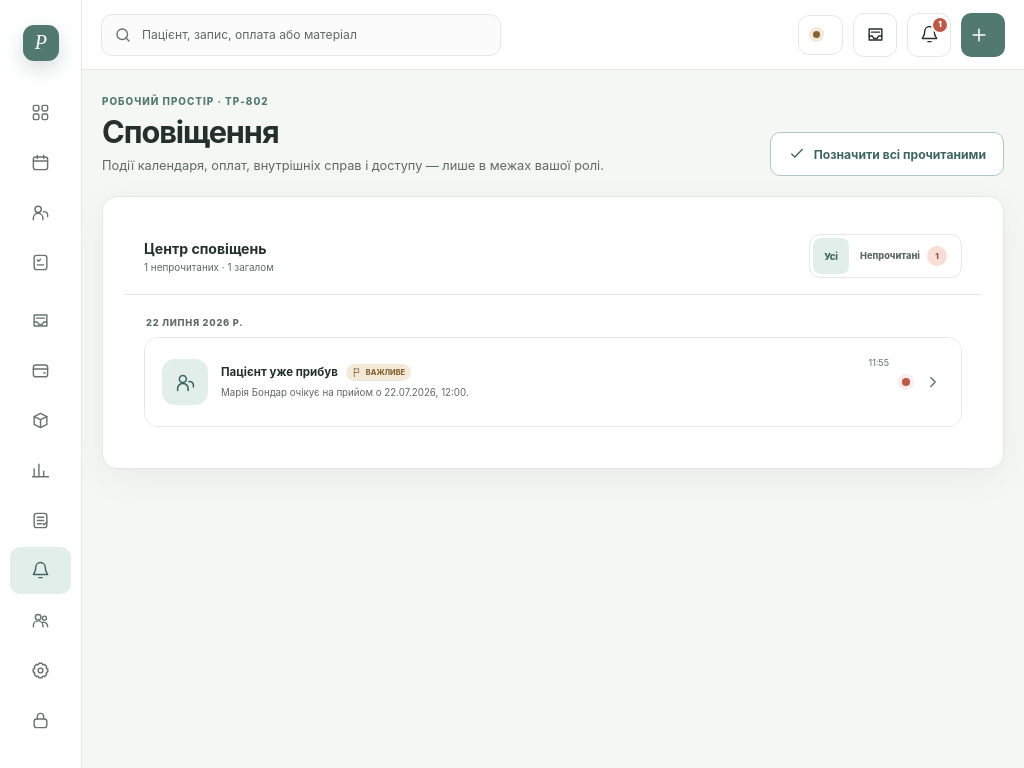
Test: notifications center › marks an item before navigating to its canonical highlighted work item
Step 1. Click the button with aria-label "Непрочитане сповіщення: Пацієнт уже прибув" → (185,382), box [145,338,961,426]
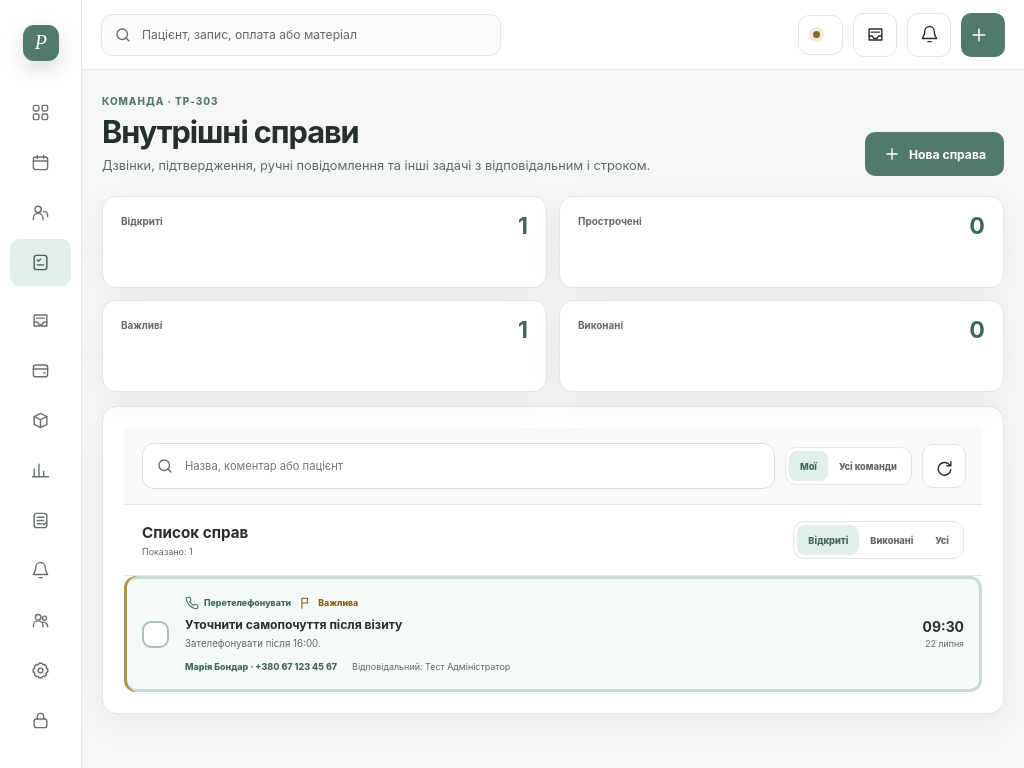
Now the heading "Внутрішні справи" is shown, box [102,113,359,150]
Now the heading "Уточнити самопочуття після візиту" is shown, box [185,617,402,632]
Now the link named "Сповіщення: немає непрочитаних" is shown, box [907,12,951,56]
